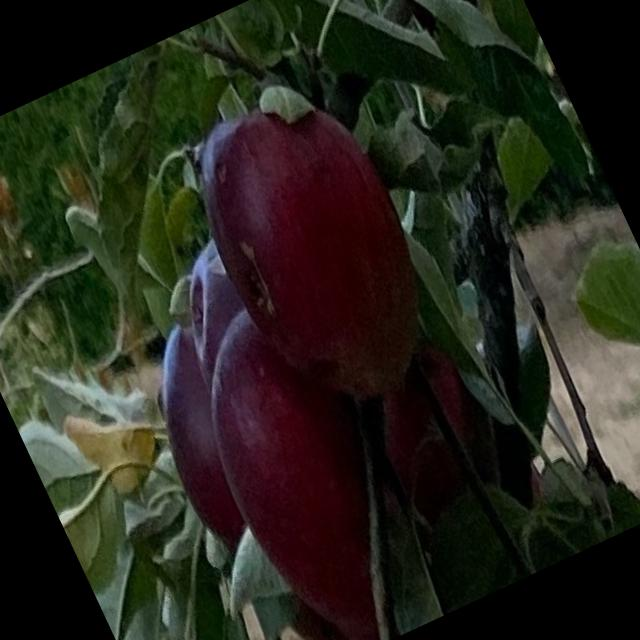Apples: (161, 283, 447, 639), (170, 73, 460, 421), (118, 316, 284, 556), (150, 234, 264, 378)
